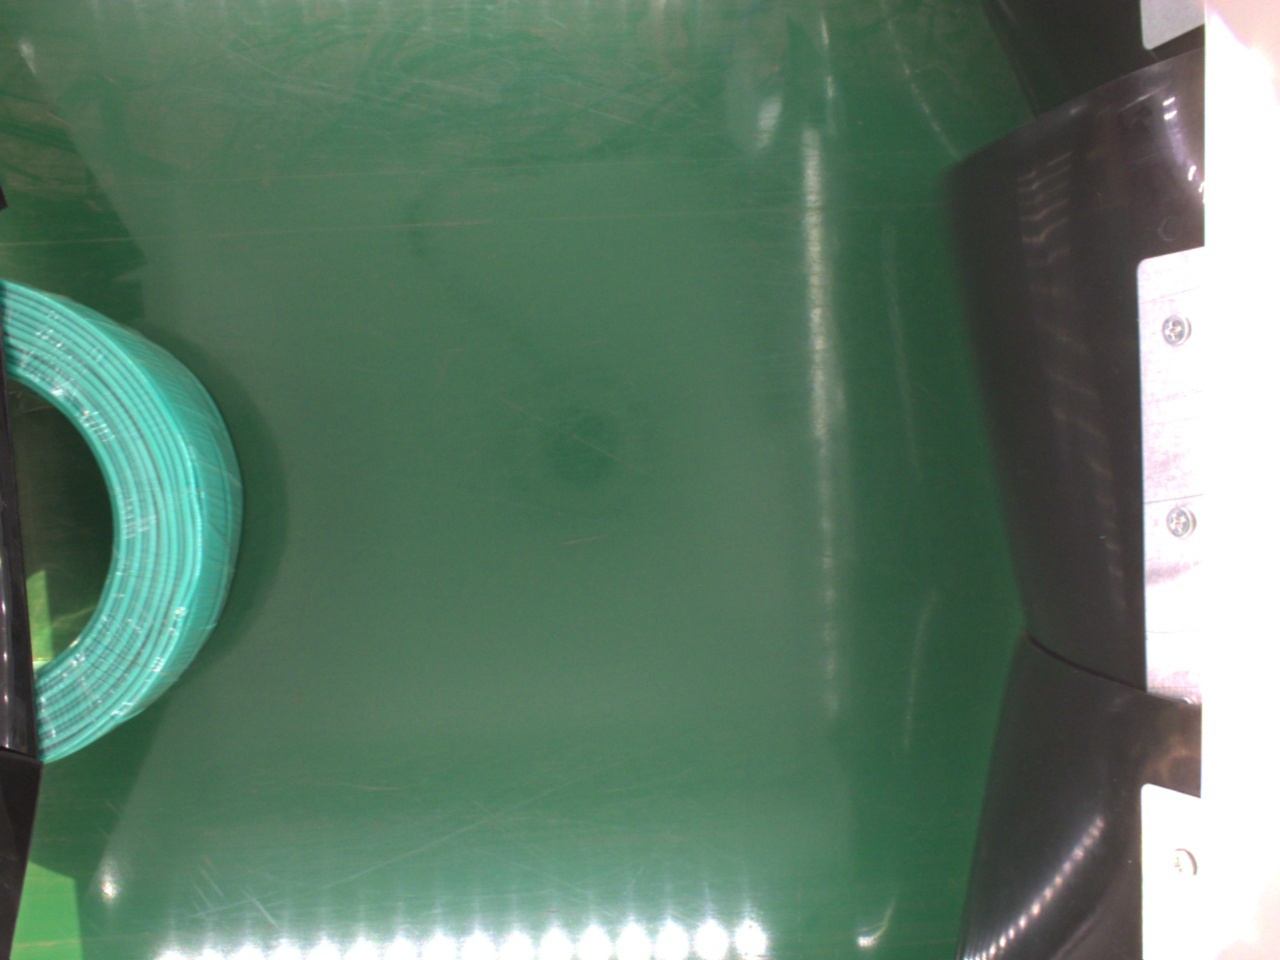green: (3, 283, 248, 764)
